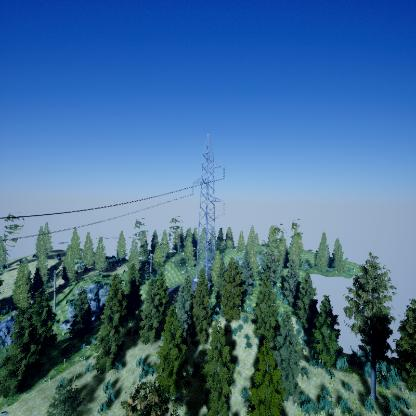tower: (190, 132, 226, 286)
